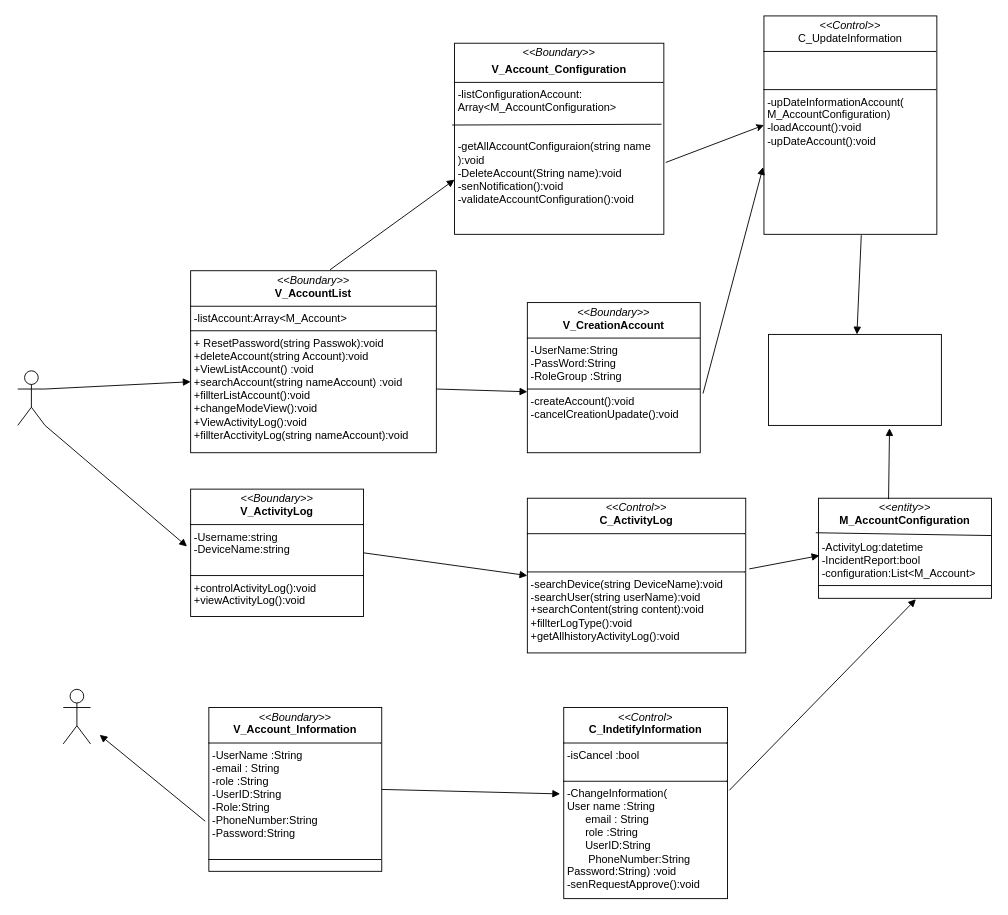
Some shapes in this 1008 by 915 pixel diagram are drawn without their labels. The shapes that lost their labels are listed below. From the top down, each one's centre as x and y in pixels, then its label:
At (31,397): "Admin".
At (854,379): "<<entity>> M_Account -UserName: string -Password: string".
At (76,716): "User".
